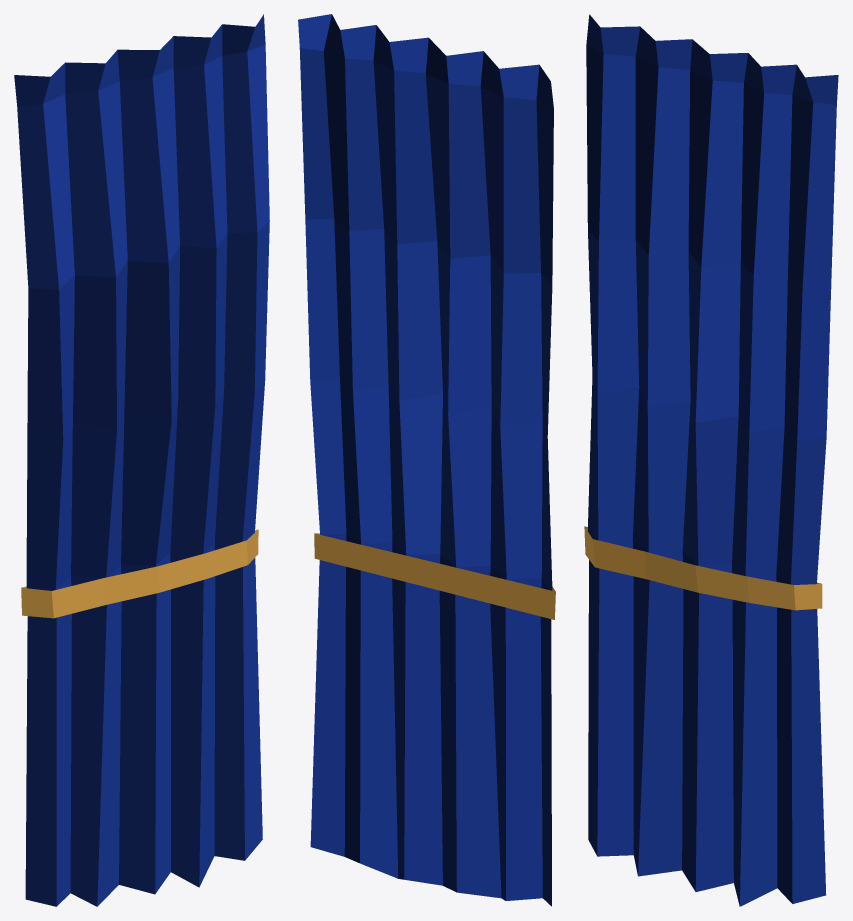
Rendered from CurtainLeft.fbx.
3 views of the same model, side by side, from view 1: azimuth 30°, elevation 25°; view 2: azimuth 150°, elevation 25°; view 3: azimuth 330°, elevation 25° (orthographic).
Visible parts, largest first — view 1: CurtainLeft; view 2: CurtainLeft; view 3: CurtainLeft.
Boxes of the visible parts, x1,y1,x2,y2 form: CurtainLeft: [14, 14, 269, 906]; CurtainLeft: [298, 14, 555, 906]; CurtainLeft: [584, 14, 838, 906].
Bounding box in the file's own units: 94.07 × 303 × 16.64.
